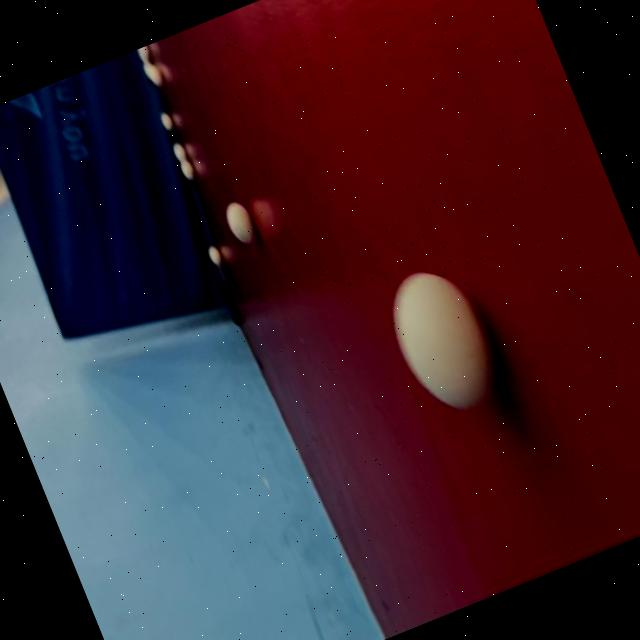ping-pong-ball: (348, 214, 536, 456), (208, 186, 268, 259), (198, 234, 231, 278), (150, 100, 183, 141), (140, 54, 172, 96), (164, 130, 196, 172), (171, 150, 202, 191), (128, 42, 162, 72)
